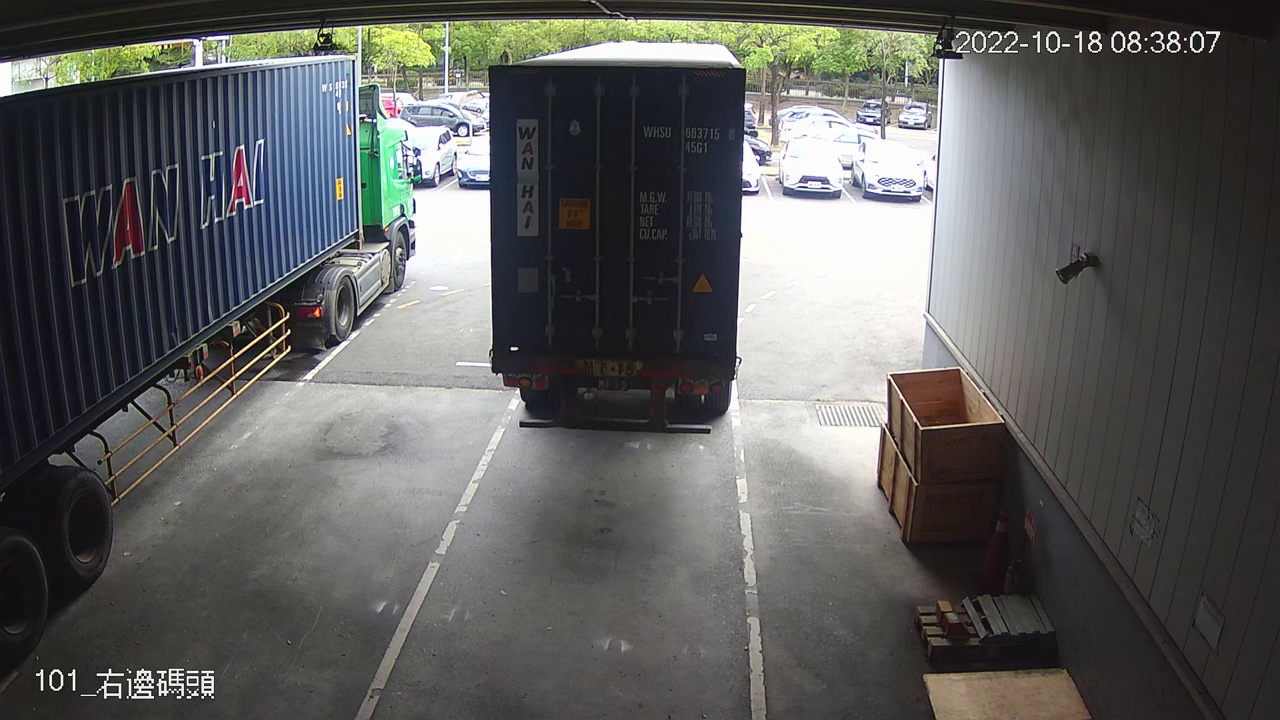container: (639, 119, 738, 160)
